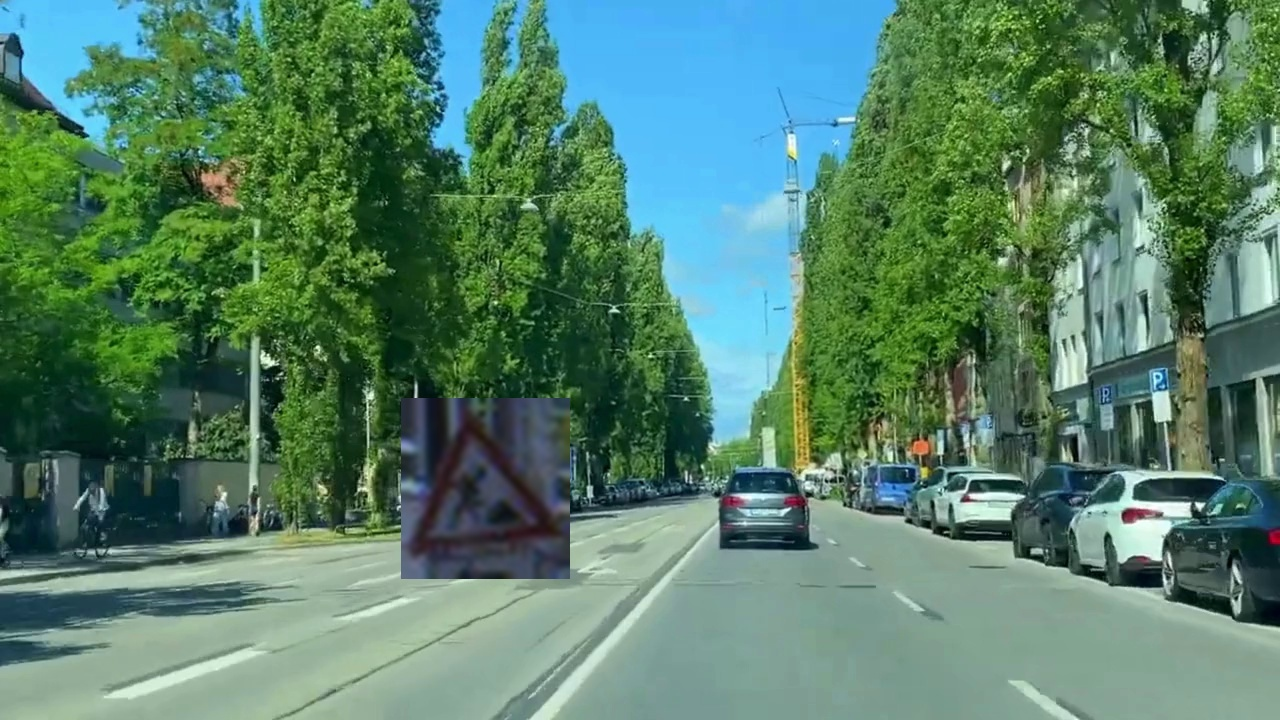Road work: (401, 398, 570, 579)
